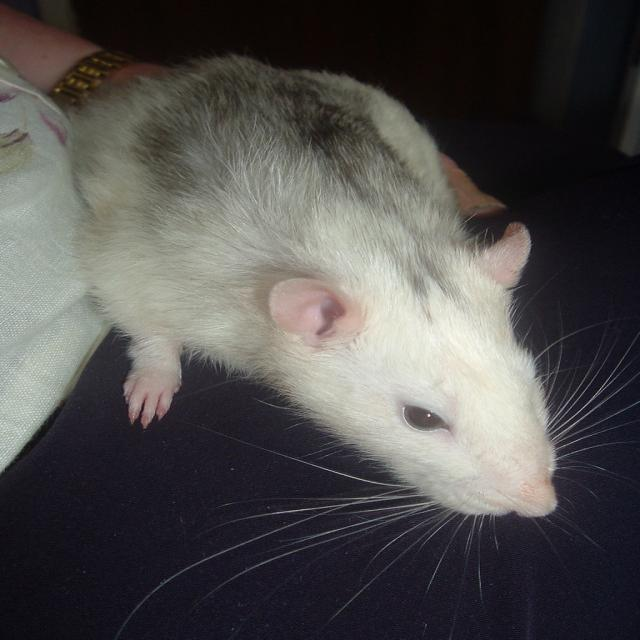rat: (68, 53, 632, 632)
